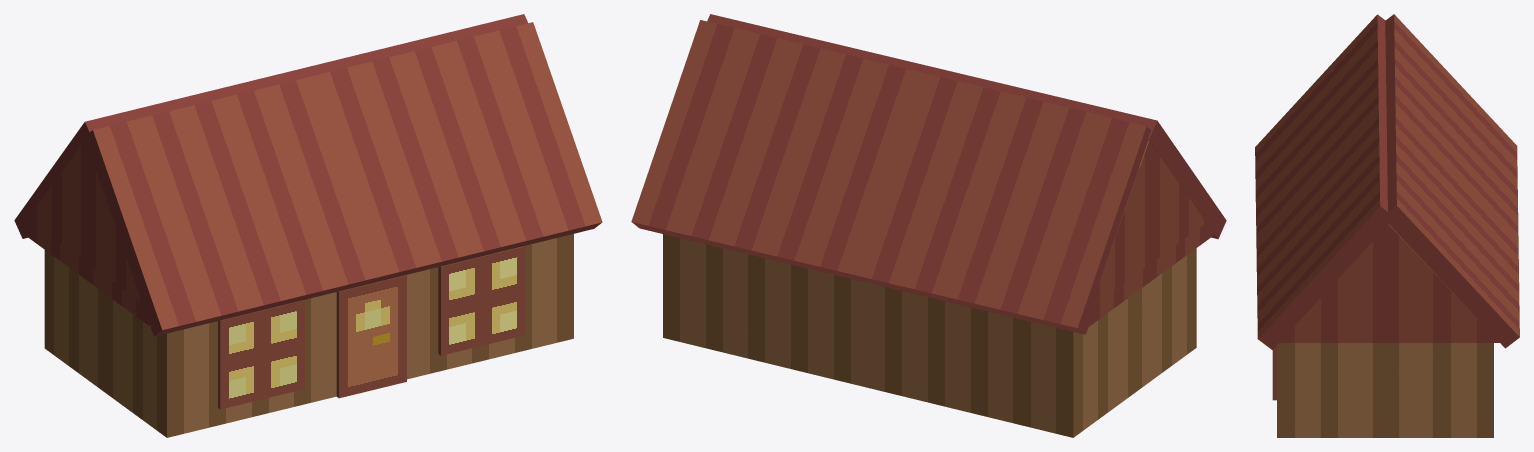
File: House.gltf
3 renders of one model, left to right at view 1: azimuth 30°, elevation 25°; view 2: azimuth 150°, elevation 25°; view 3: azimuth 270°, elevation 25°, orthographic. The views are drawn at different scales.
Parts seen in each view (by area): view 1: Roof, HouseBase, cube (×2), Window2, Window1, Door, pyramid; view 2: cube (×2), HouseBase, pyramid, Roof; view 3: cube (×2), Roof, HouseBase, pyramid.
Part boxes in pixels (x1=…): Roof: x1=84, y1=22, x2=602, y2=336; HouseBase: x1=44, y1=234, x2=573, y2=437; cube (×2): x1=14, y1=14, x2=527, y2=326; Window2: x1=438, y1=246, x2=525, y2=355; Window1: x1=218, y1=300, x2=304, y2=409; Door: x1=336, y1=275, x2=406, y2=398; pyramid: x1=33, y1=139, x2=141, y2=302; cube (×2): x1=631, y1=20, x2=1213, y2=334; HouseBase: x1=663, y1=234, x2=1196, y2=437; pyramid: x1=1097, y1=140, x2=1206, y2=302; Roof: x1=707, y1=14, x2=1226, y2=239; cube (×2): x1=1279, y1=14, x2=1519, y2=348; Roof: x1=1255, y1=14, x2=1388, y2=349; HouseBase: x1=1277, y1=343, x2=1493, y2=437; pyramid: x1=1294, y1=224, x2=1484, y2=327.
Size of the model in its own units: 3.26 by 1.91 by 1.91.
Materials: 1 (1 with a texture image).
